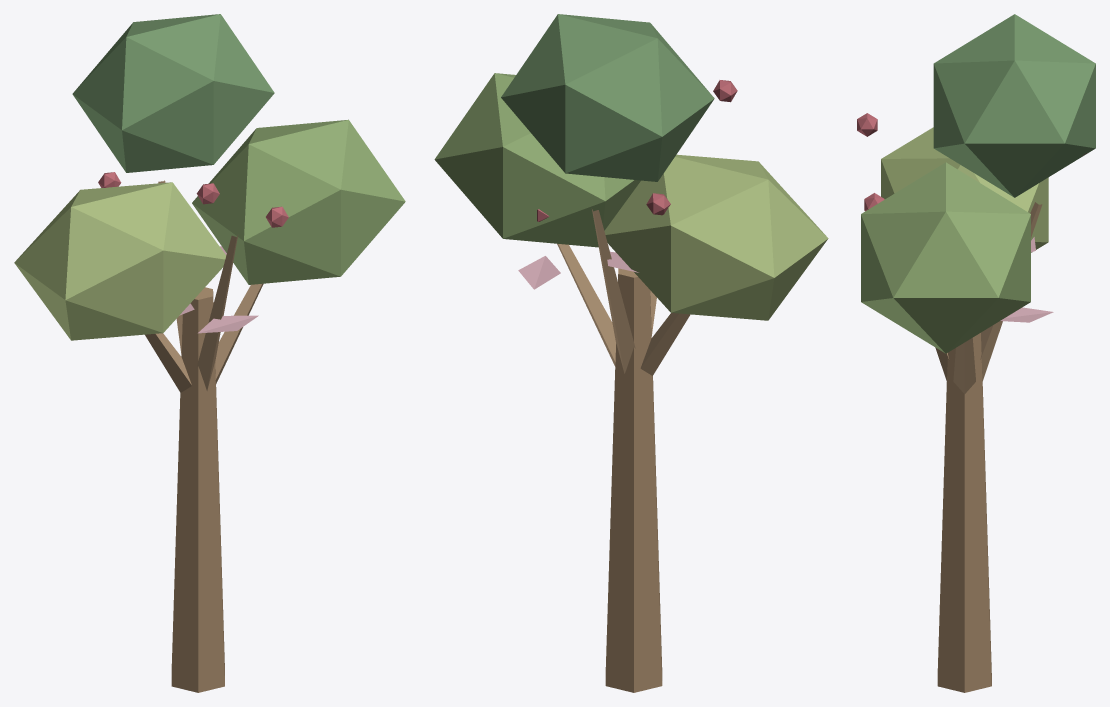
3 renders of one model, left to right at view 1: azimuth 30°, elevation 25°; view 2: azimuth 150°, elevation 25°; view 3: azimuth 270°, elevation 25°, orthographic. The views are drawn at different scales.
Parts seen in each view (by area): view 1: Body; view 2: Body; view 3: Body.
Part boxes in pixels (x1,y1,x2,y2): Body: [14, 14, 405, 692]; Body: [434, 14, 828, 692]; Body: [857, 14, 1095, 692].
Bounding box in the file's own units: 2.47 × 4.53 × 1.53.
